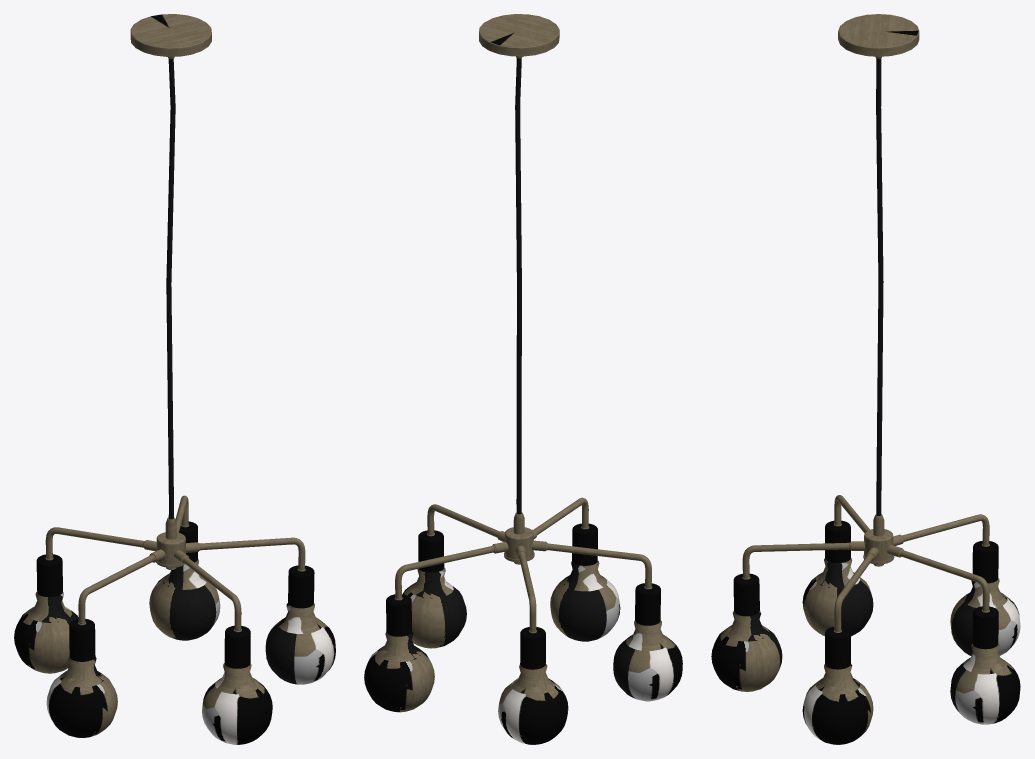
3 renders of one model, left to right at view 1: azimuth 30°, elevation 25°; view 2: azimuth 150°, elevation 25°; view 3: azimuth 270°, elevation 25°, orthographic.
Visible parts, largest first — view 1: "$AFBEOPLILCCAAAAAICBAAAAAAAAAJEPDDEPD"; view 2: "$AFBEOPLILCCAAAAAICBAAAAAAAAAJEPDDEPD"; view 3: "$AFBEOPLILCCAAAAAICBAAAAAAAAAJEPDDEPD".
Boxes of the visible parts, bbox=[...] form: "$AFBEOPLILCCAAAAAICBAAAAAAAAAJEPDDEPD": bbox=[14, 14, 335, 744]; "$AFBEOPLILCCAAAAAICBAAAAAAAAAJEPDDEPD": bbox=[364, 14, 682, 744]; "$AFBEOPLILCCAAAAAICBAAAAAAAAAJEPDDEPD": bbox=[711, 14, 1020, 744].
Size of the model in its own units: 0.4377 by 0.9882 by 0.4207.
1 material, 1 textured.
